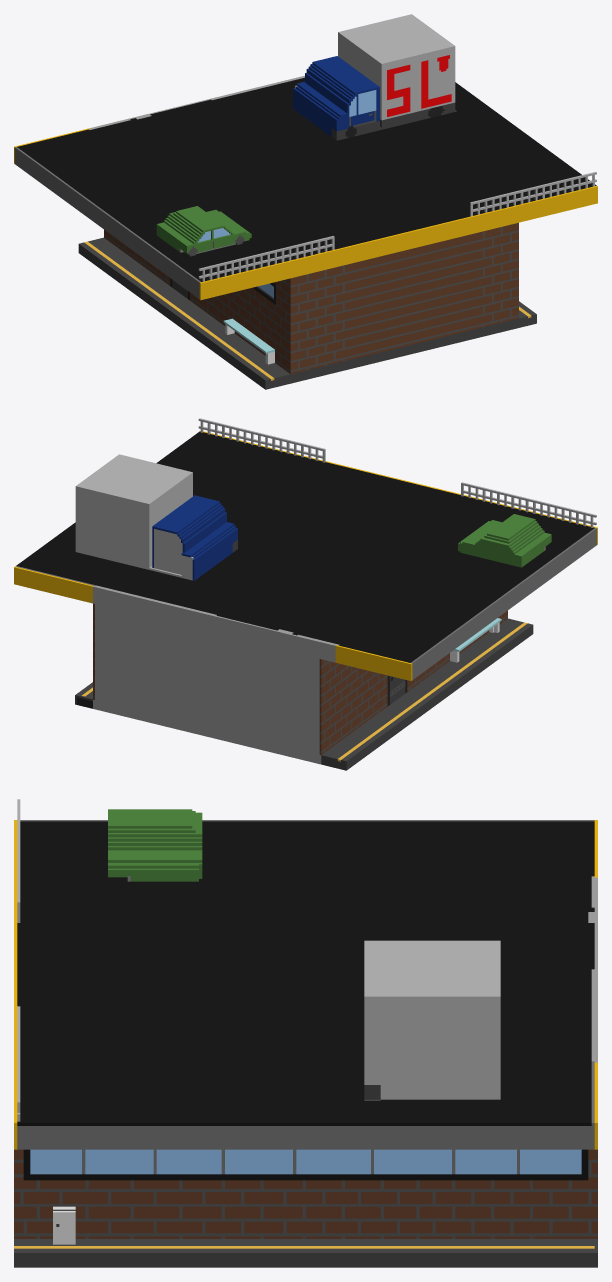
File: sity_2.vox.obj
3 renders of one model, top to bottom at view 1: azimuth 30°, elevation 25°; view 2: azimuth 150°, elevation 25°; view 3: azimuth 270°, elevation 25°, orthographic. The views are drawn at different scales.
Size of the model in its own units: 22.1 by 10 by 18.
Materials: 1 (1 with a texture image).
